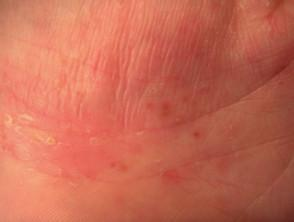Eczema: (83, 128, 108, 152), (86, 58, 110, 83), (245, 55, 267, 82), (42, 127, 64, 153), (82, 161, 104, 186), (226, 21, 245, 49), (106, 56, 133, 75), (142, 76, 159, 105), (46, 159, 68, 181), (99, 33, 122, 54), (53, 47, 76, 67), (111, 79, 131, 102), (157, 164, 178, 185), (17, 109, 38, 130), (130, 125, 150, 147), (21, 156, 41, 178), (262, 3, 280, 27), (0, 75, 18, 99), (158, 96, 175, 121), (61, 173, 82, 193), (271, 55, 292, 75), (201, 30, 218, 54), (0, 110, 16, 135), (52, 75, 72, 95), (71, 88, 93, 106), (107, 158, 126, 178), (221, 120, 240, 139), (188, 123, 203, 147), (173, 90, 191, 110), (216, 151, 233, 170), (197, 85, 215, 102), (25, 131, 42, 149), (269, 82, 290, 96), (9, 125, 23, 145), (14, 144, 30, 160), (168, 70, 183, 86)
